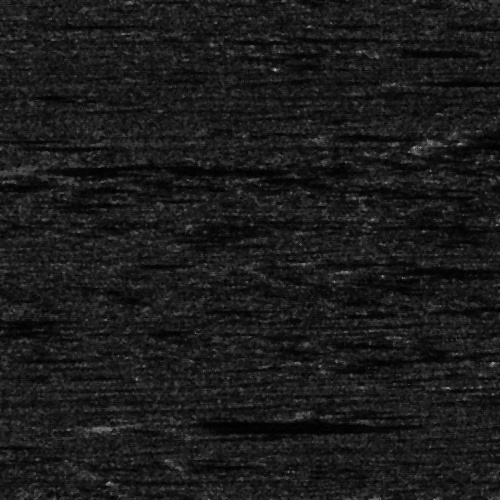object: (89, 419, 204, 432), (332, 269, 395, 274), (386, 77, 427, 84), (331, 47, 384, 52), (0, 165, 43, 170), (412, 137, 423, 150), (456, 0, 500, 2), (0, 355, 11, 360)
shadow: (147, 419, 337, 432), (12, 165, 282, 170), (418, 137, 500, 150), (407, 77, 500, 84), (358, 47, 457, 52), (0, 355, 69, 360), (364, 269, 398, 274)
